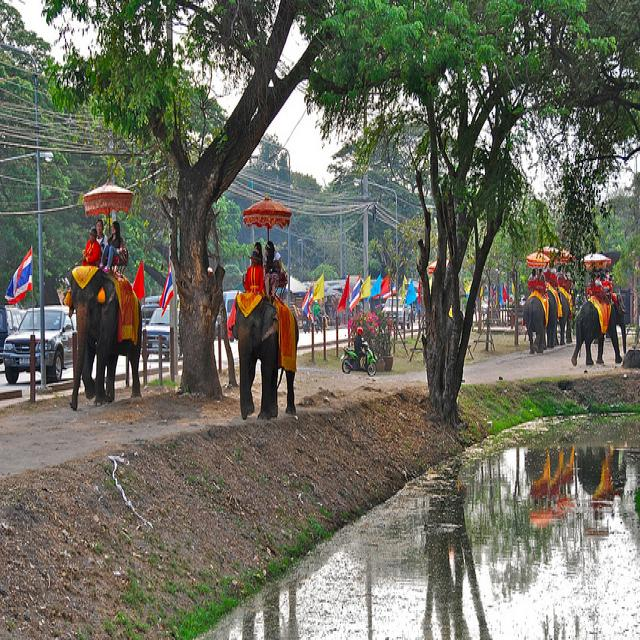motor: (339, 339, 379, 377), (302, 316, 312, 334), (314, 317, 320, 334)
